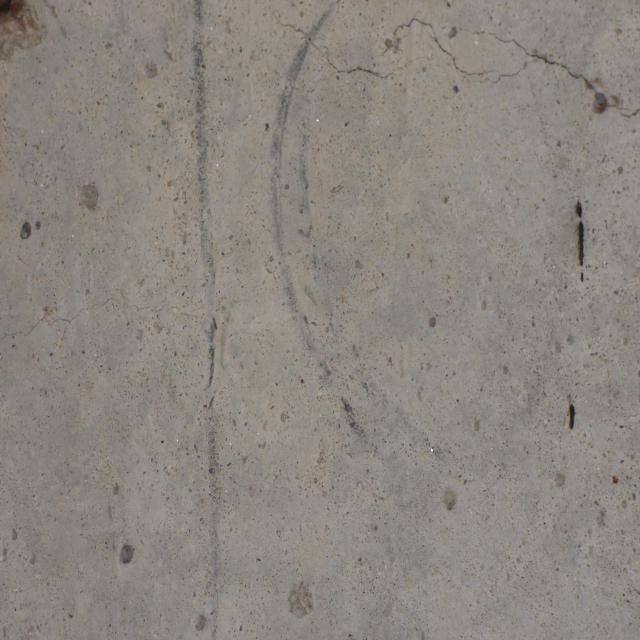corrosion: (0, 0, 40, 34)
